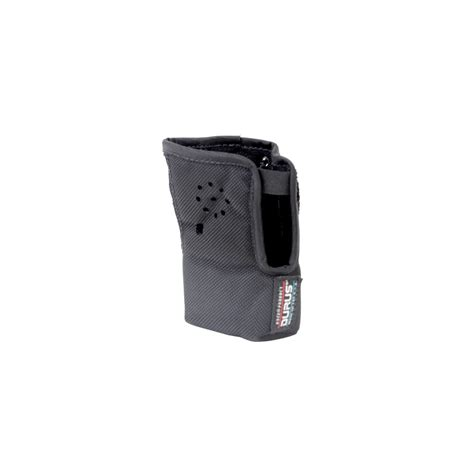nylon: (162, 135, 303, 339)
